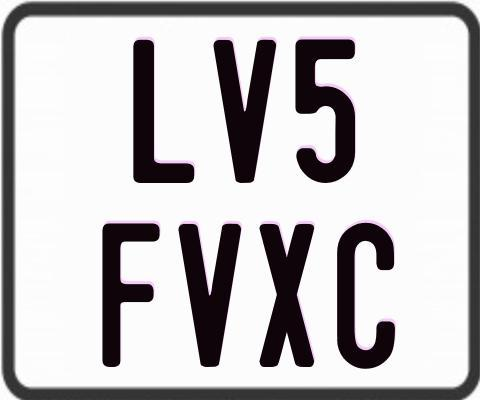5: (295, 38, 356, 185)
C: (335, 221, 397, 371)
F: (99, 221, 157, 366)
L: (133, 40, 197, 184)
V: (178, 221, 243, 365), (212, 40, 275, 186)
X: (258, 223, 314, 369)
